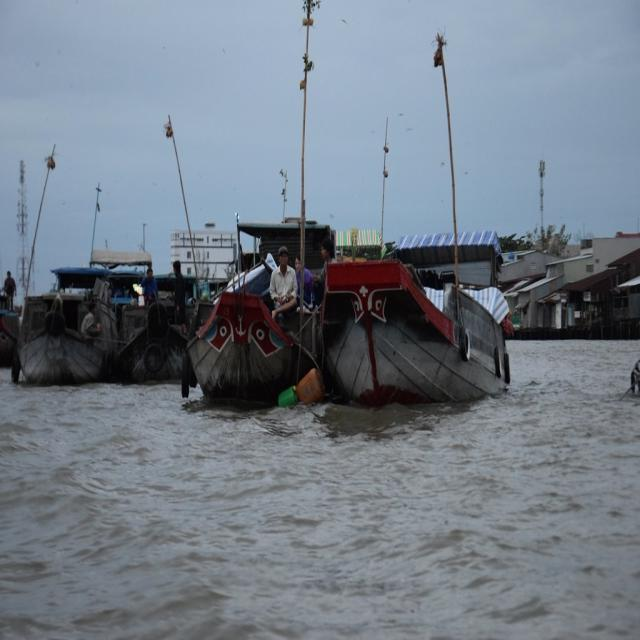boat: (322, 253, 512, 412), (182, 252, 322, 404), (23, 286, 98, 388)
